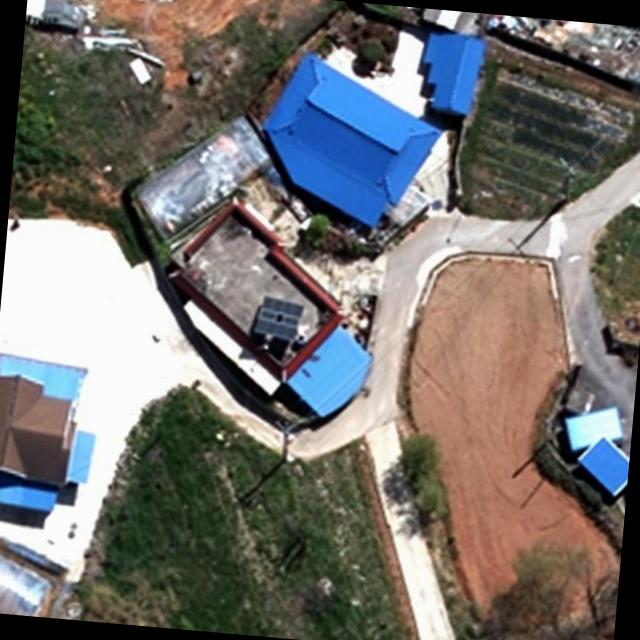solar: (248, 294, 306, 342)
